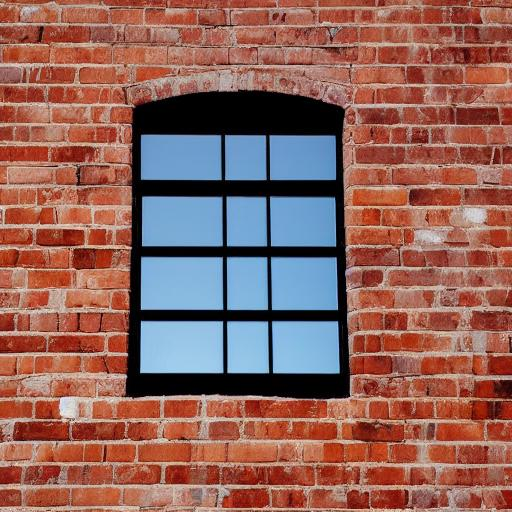Window: (126, 72, 355, 404)
